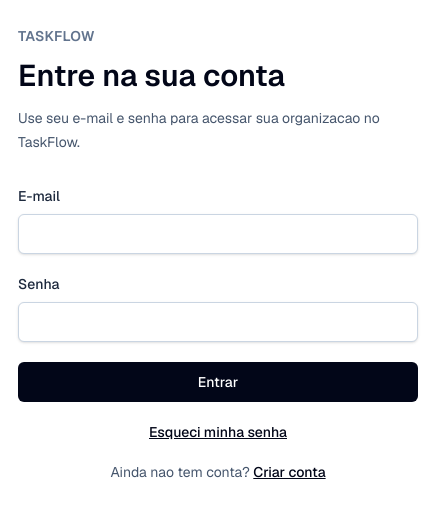
LoginPage › validates invalid email
This screenshot has width=437, height=510.
Type "email-invalido" into the field labelled "E-mail".
click(218, 234); type("email-invalido")  # box [18,214,418,254]
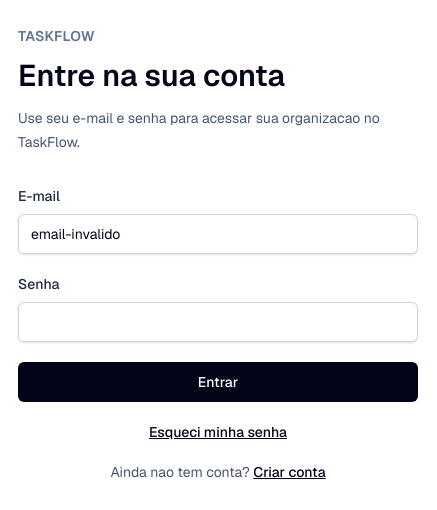
Type "Senha123" into the password field labelled "Senha".
click(218, 322); type("Senha123")  # box [18,302,418,342]
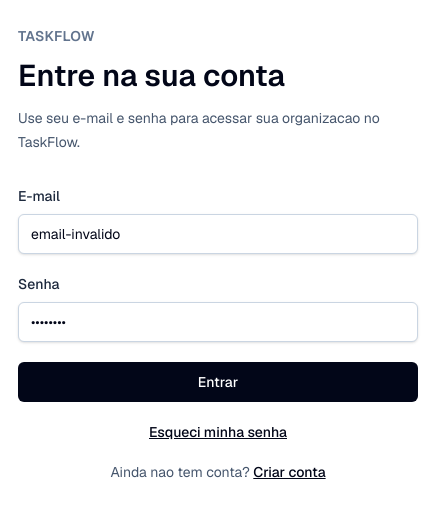
Click the button "Entrar".
click(218, 382)  # box [18,362,418,402]
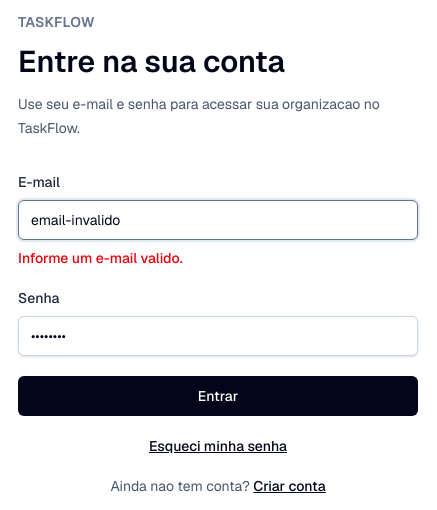
Now the text "Informe um e-mail valido." is shown, box [18,249,183,267]
